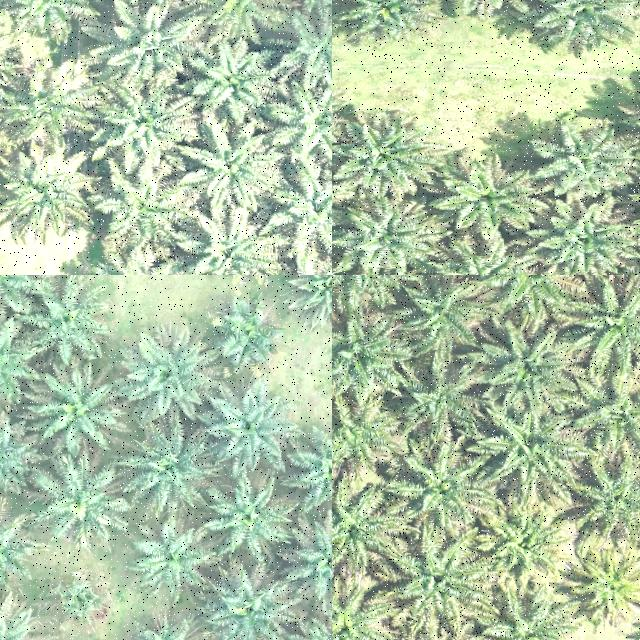Ganoderma: (581, 560, 640, 614)
